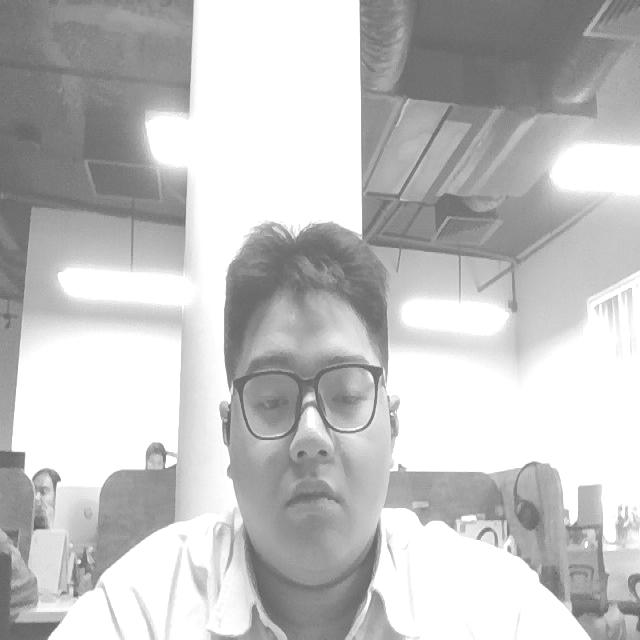real: (200, 185, 416, 607), (237, 378, 388, 426)
